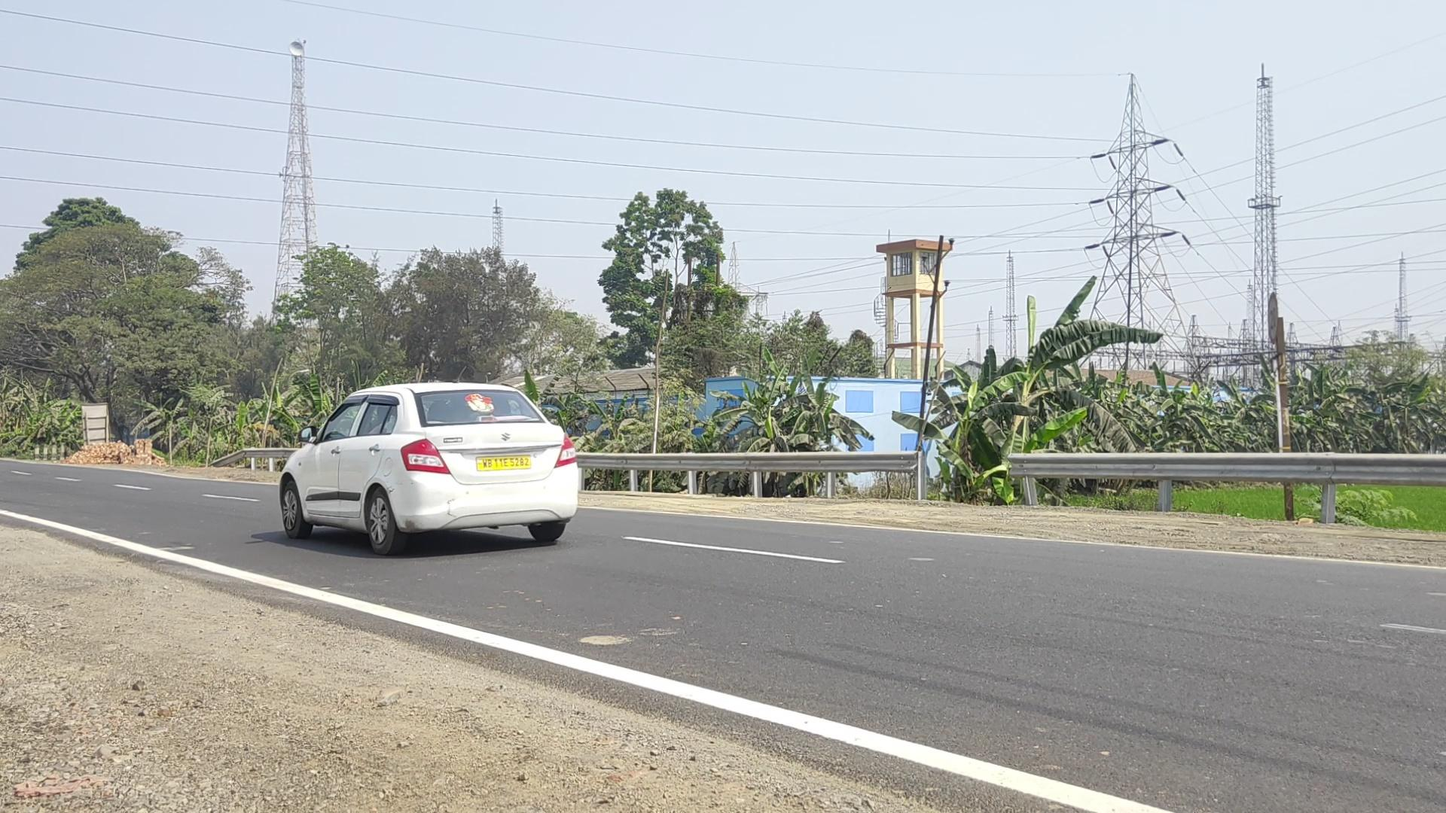car: (279, 382, 579, 556)
